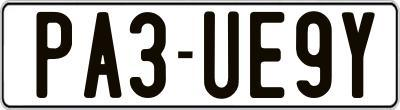3: (127, 12, 168, 104)
9: (293, 10, 330, 101)
A: (83, 11, 126, 99)
E: (247, 12, 286, 101)
P: (37, 11, 77, 98)
U: (203, 10, 242, 100)
Y: (342, 12, 381, 100)
